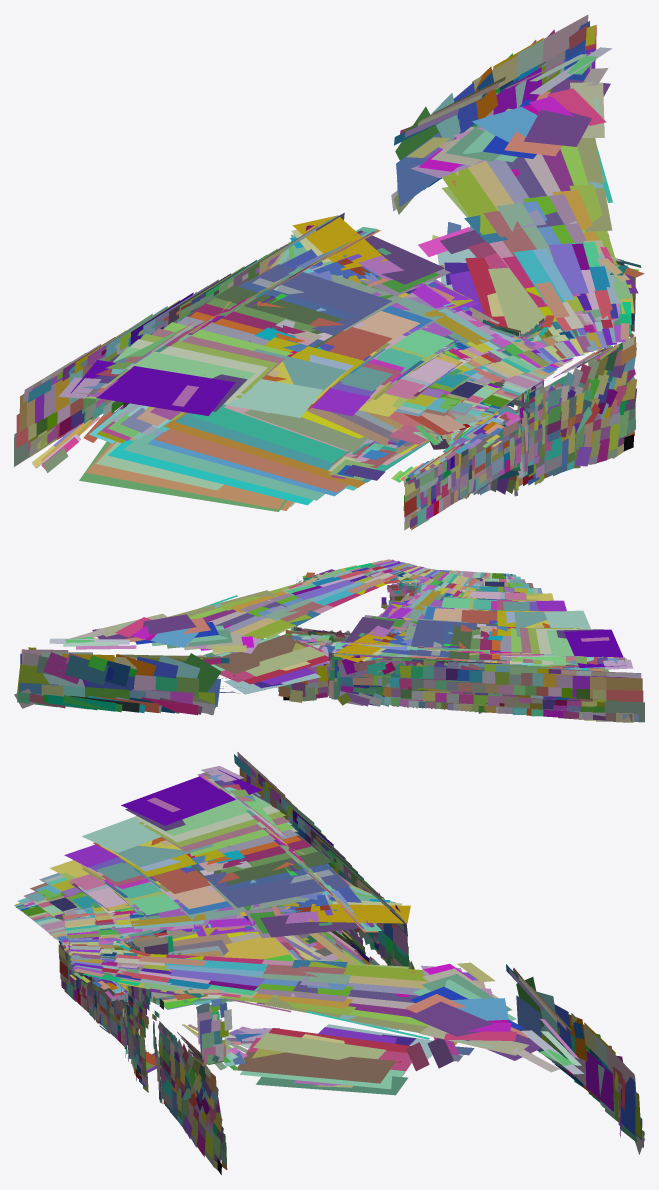
Rendered from planarSplat_rawPrims_normalized_colorPrim.glb.
3 renders of one model, top to bottom at view 1: azimuth 30°, elevation 25°; view 2: azimuth 150°, elevation 25°; view 3: azimuth 270°, elevation 25°, orthographic. The views are drawn at different scales.
Parts seen in each view (by area): view 1: planarSplat_rawPrims_normalized_colorPrim.ply; view 2: planarSplat_rawPrims_normalized_colorPrim.ply; view 3: planarSplat_rawPrims_normalized_colorPrim.ply.
Part boxes in pixels (x1,y1,x2,y2): planarSplat_rawPrims_normalized_colorPrim.ply: (14,15,644,530); planarSplat_rawPrims_normalized_colorPrim.ply: (14,559,644,722); planarSplat_rawPrims_normalized_colorPrim.ply: (14,752,644,1174).
Bounding box in the file's own units: 8.85 × 2.28 × 6.91.
